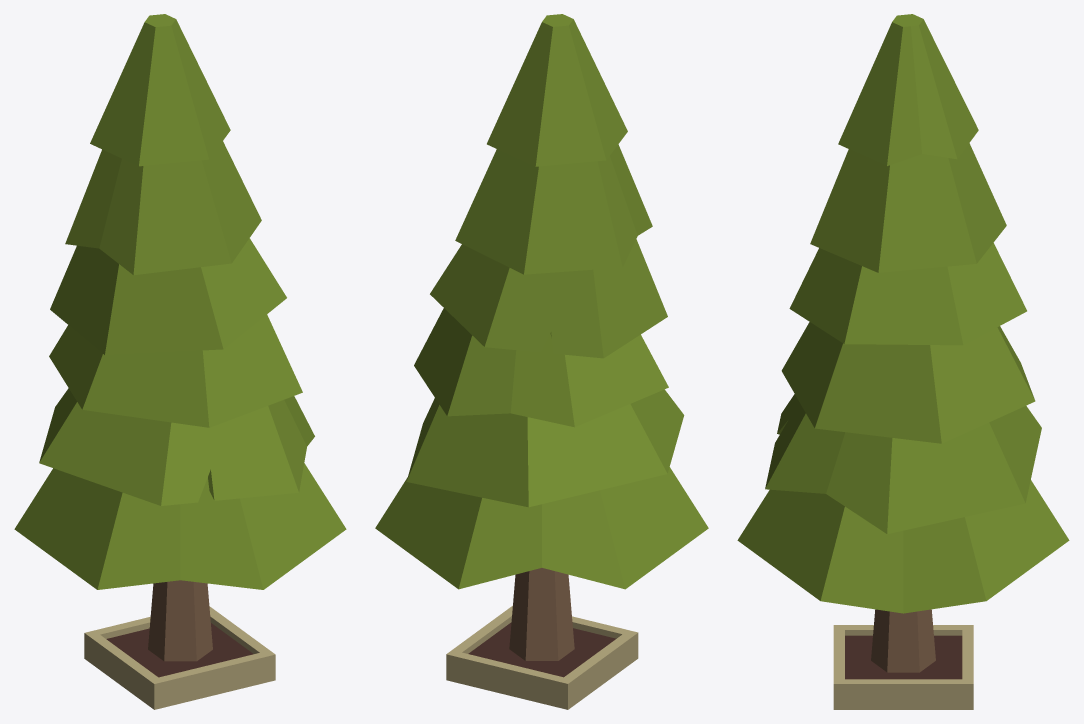
The model's file is Street Tree 4.fbx.
3 renders of one model, left to right at view 1: azimuth 30°, elevation 25°; view 2: azimuth 150°, elevation 25°; view 3: azimuth 270°, elevation 25°, orthographic.
Visible parts, largest first — view 1: Street Tree 4; view 2: Street Tree 4; view 3: Street Tree 4.
Part boxes in pixels (bbox=[...]): Street Tree 4: bbox=[14, 14, 346, 709]; Street Tree 4: bbox=[375, 14, 708, 709]; Street Tree 4: bbox=[737, 14, 1069, 709].
Bounding box in the file's own units: 214 × 514 × 237.
1 material, 1 textured.
